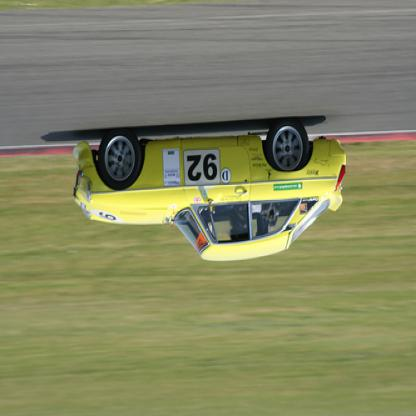car: (74, 119, 350, 265)
